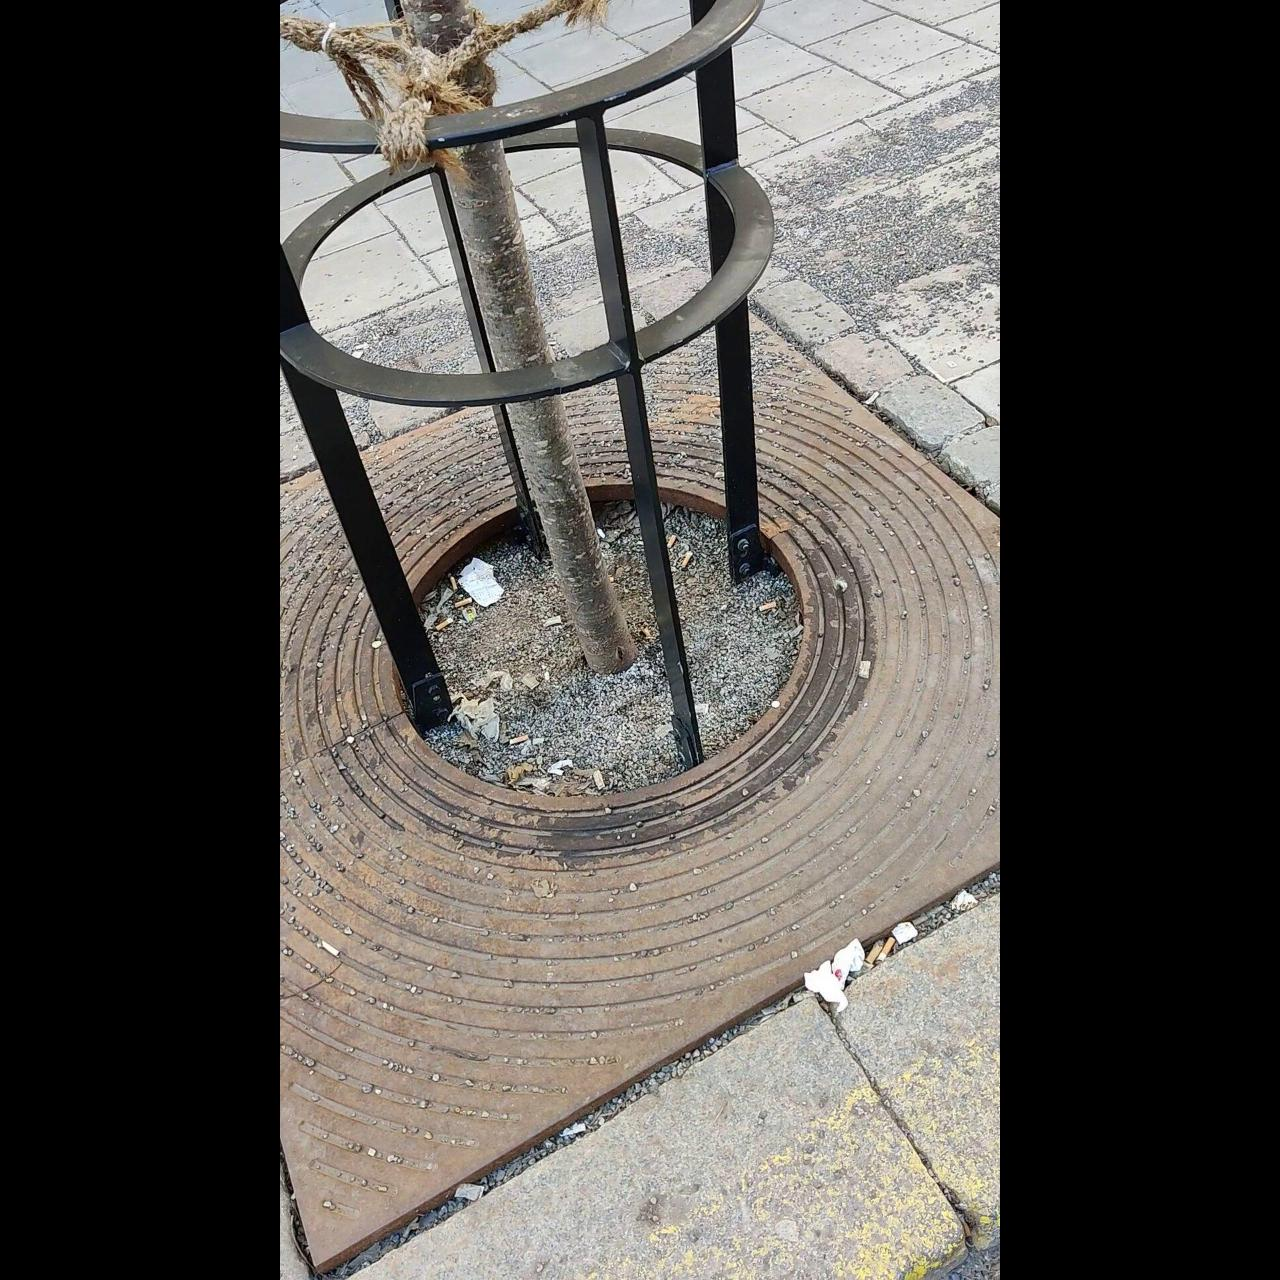cigarettes_butts: (882, 934, 896, 958), (867, 945, 879, 967), (681, 547, 693, 569), (452, 598, 473, 610), (433, 620, 451, 634), (508, 734, 530, 744), (758, 603, 780, 613), (665, 533, 679, 545), (448, 576, 460, 590)
others: (452, 1182, 484, 1204), (590, 765, 612, 787), (318, 941, 342, 961), (860, 658, 872, 682), (544, 618, 562, 632), (868, 392, 880, 406)
